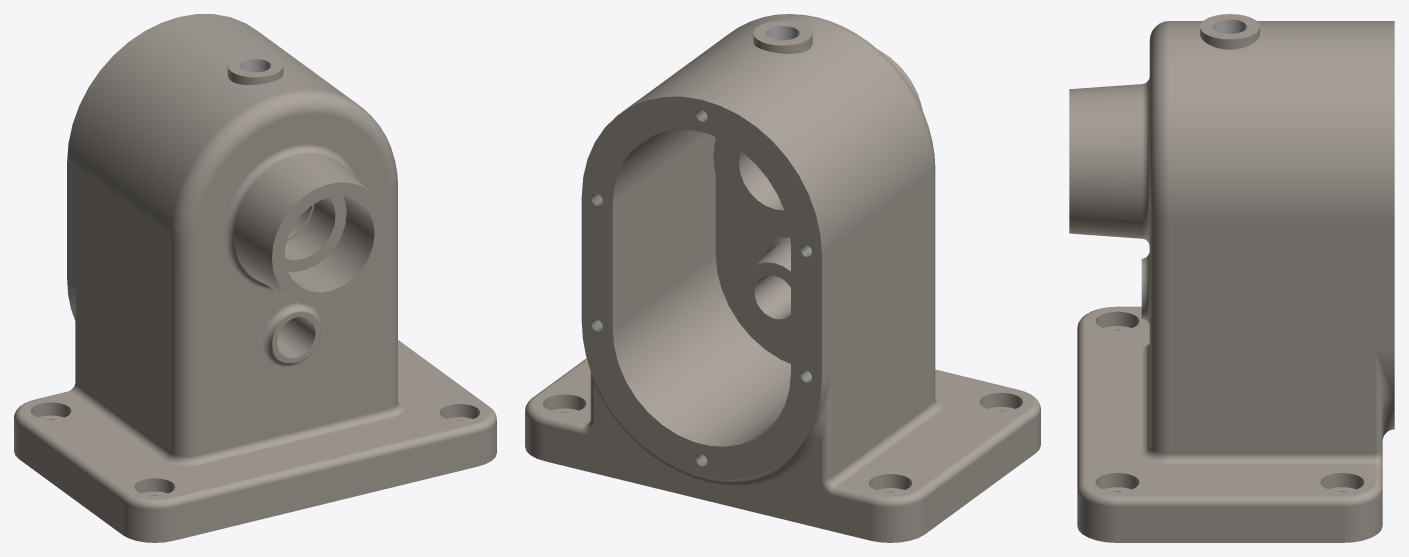
File: gear box.glb
The picture shows the model from 3 angles, left to right: view 1: azimuth 30°, elevation 25°; view 2: azimuth 150°, elevation 25°; view 3: azimuth 270°, elevation 25°; orthographic projection. The views are drawn at different scales.
Parts seen in each view (by area): view 1: machined_steel; view 2: machined_steel; view 3: machined_steel, Body-0.
Part boxes in pixels (left/top/right/bottom): machined_steel: left=14, top=14, right=496, bottom=542; machined_steel: left=525, top=14, right=1040, bottom=542; machined_steel: left=1069, top=14, right=1394, bottom=542; Body-0: left=1213, top=19, right=1246, bottom=33.
Bounding box in the file's own units: 0.115 × 0.115 × 0.081.
Materials: 8 (6 with a texture image).
